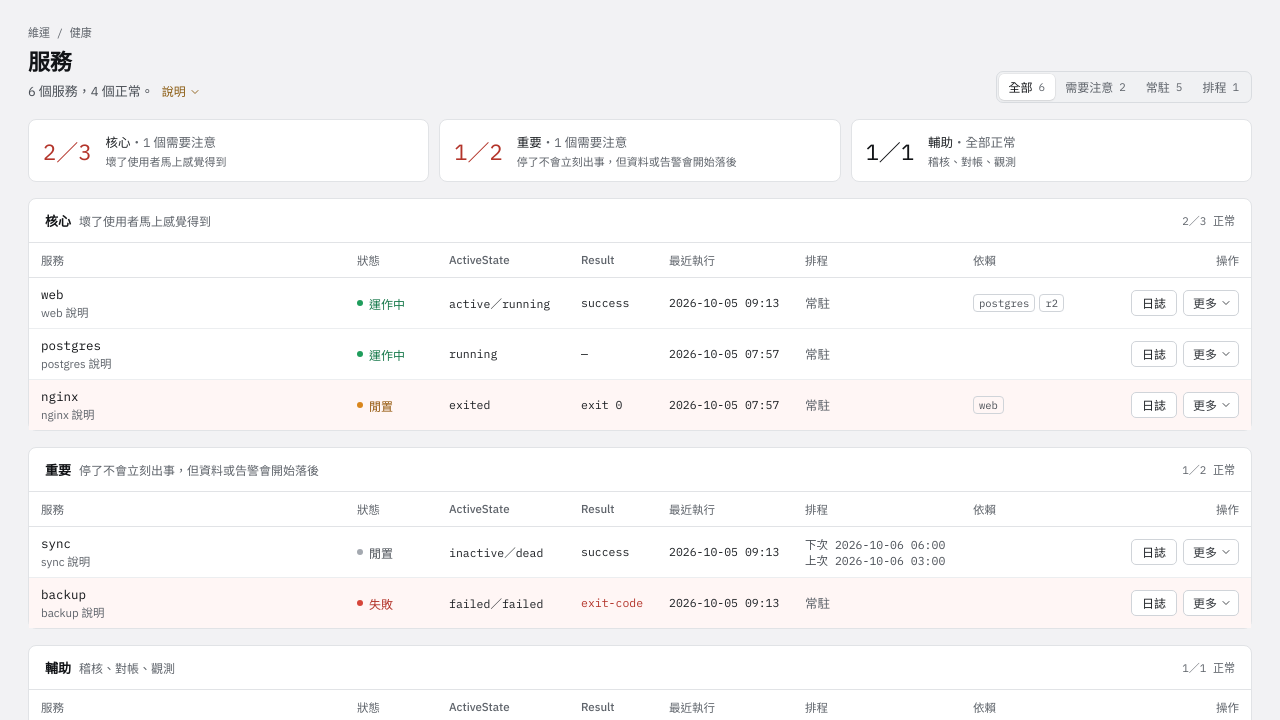
Test: 服務列的「更多」：沒有 ops.operate 只有詳情；有的話多了 catalog 開放的寫入操作
This screenshot has width=1280, height=720.
Click the button with aria-label "web 的更多操作" at coordinates (1211, 303), box top-left (1183, 290), bottom-right (1239, 316)
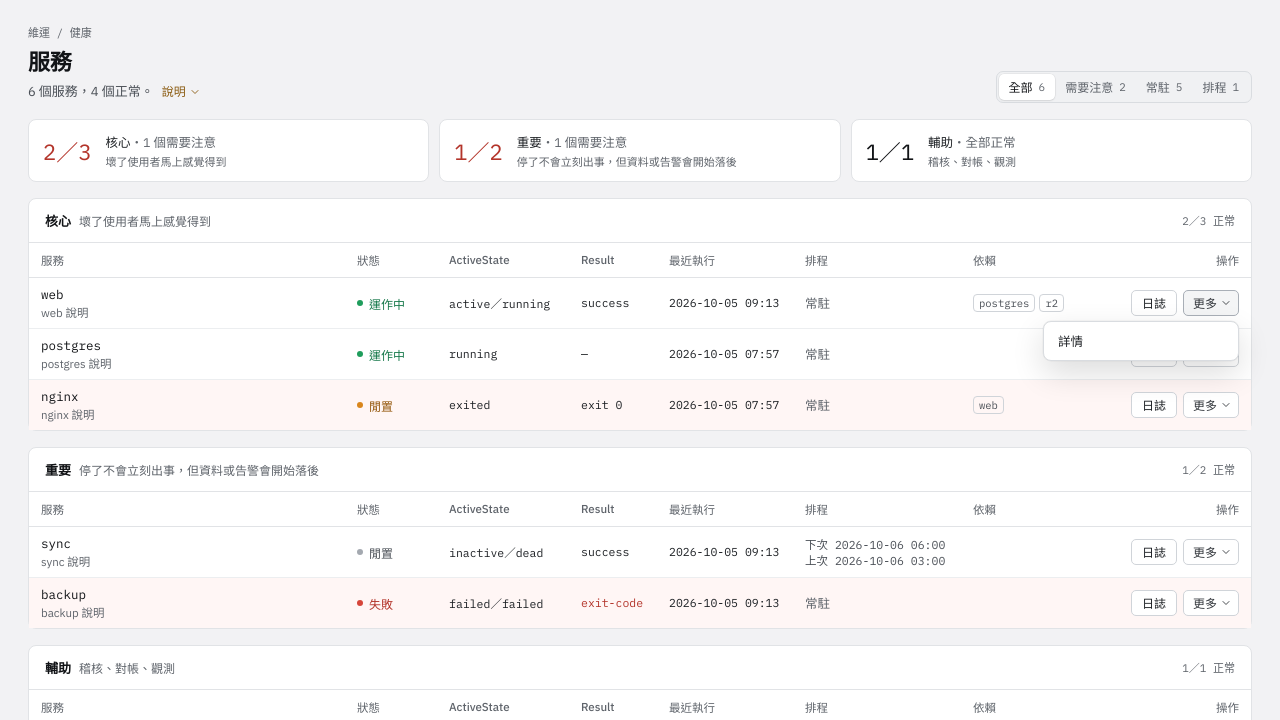
Result: the menu items read "詳情", in this order
Click the menu item "詳情" at coordinates (1141, 341), box top-left (1048, 326), bottom-right (1234, 356)
(page scrolled)
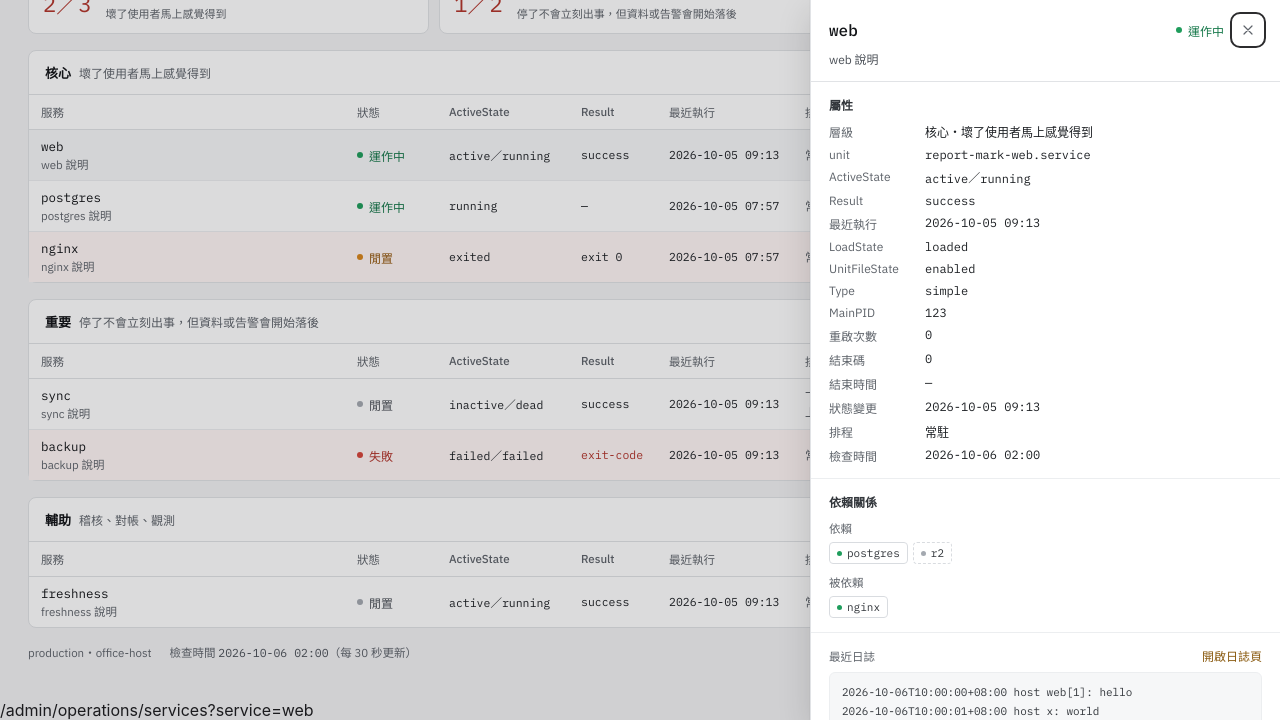
Result: the dialog "web" is shown at top-left (810, 0), bottom-right (1279, 719)
Result: the text with test id "loc" reads "/admin/operations/services?service=web" at top-left (0, 700), bottom-right (314, 719)
